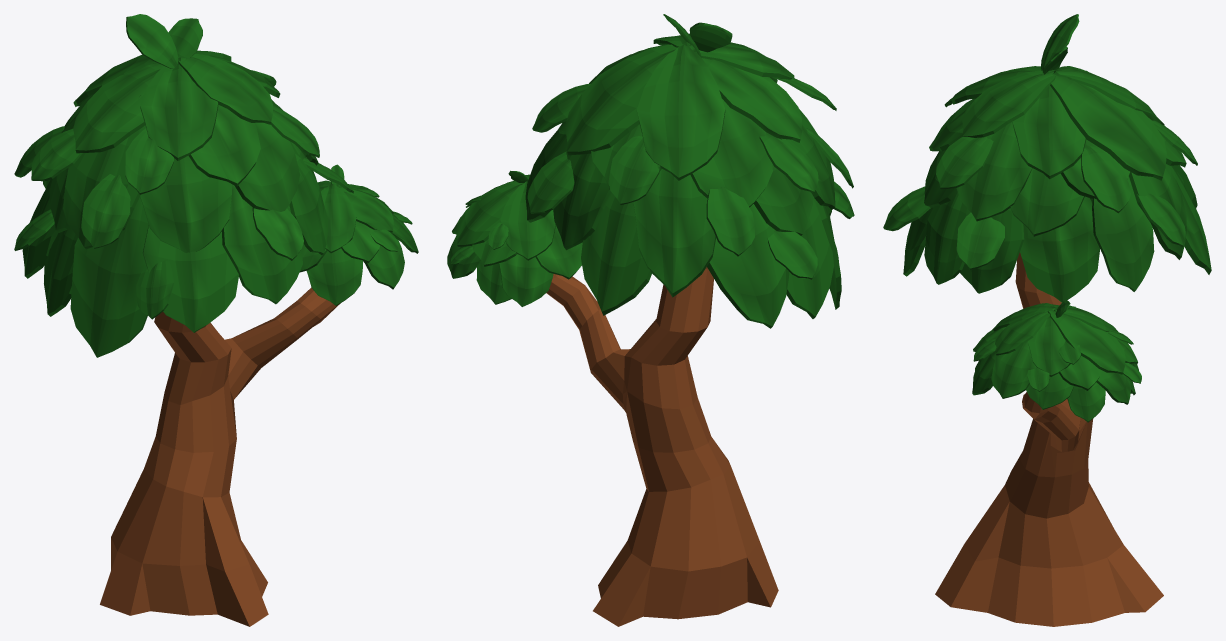
File: Laboratorio.fbx_Arvore.fbx
3 renders of one model, left to right at view 1: azimuth 30°, elevation 25°; view 2: azimuth 150°, elevation 25°; view 3: azimuth 270°, elevation 25°, orthographic. The views are drawn at different scales.
Visible parts, largest first — view 1: Arvore; view 2: Arvore; view 3: Arvore.
Boxes of the visible parts, left/top/right/bottom form: Arvore: left=14, top=14, right=418, bottom=626; Arvore: left=447, top=14, right=854, bottom=626; Arvore: left=883, top=14, right=1211, bottom=626.
Size of the model in its own units: 368 by 543 by 290.
